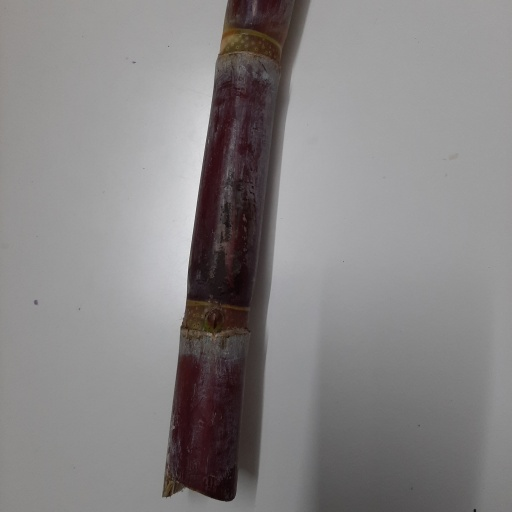Bud: (205, 309, 222, 332)
